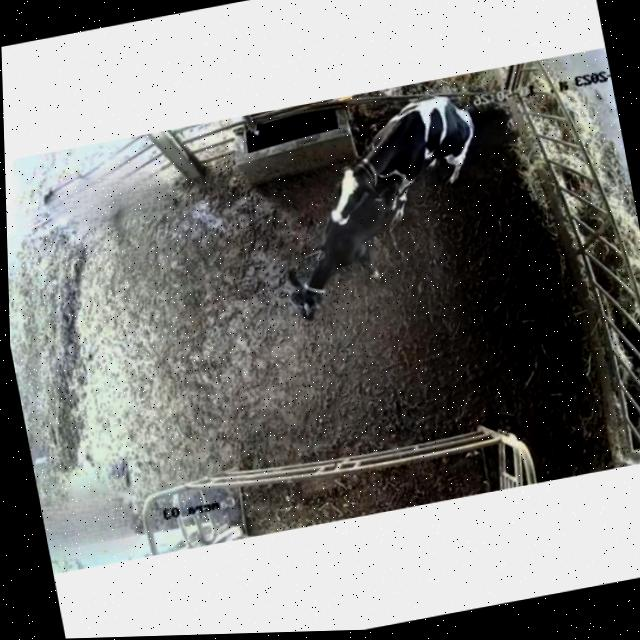ride: (301, 84, 498, 232)
stand: (264, 183, 415, 326)
